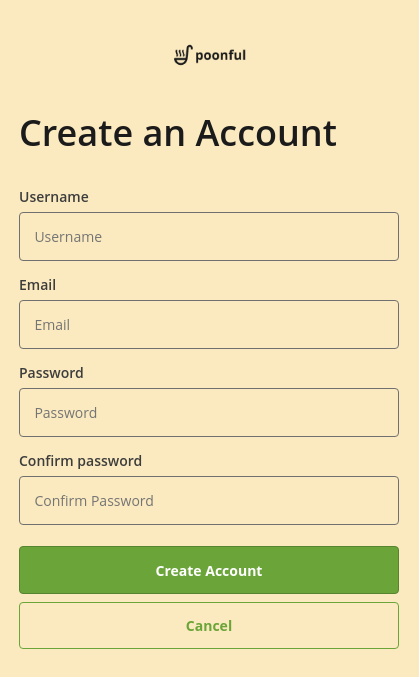
Scenario: Spoonful UI › shows a validation error when signup passwords do not match
In the field labelled "Username": (209, 237) x1=19 y1=212 x2=399 y2=261, type "cook"
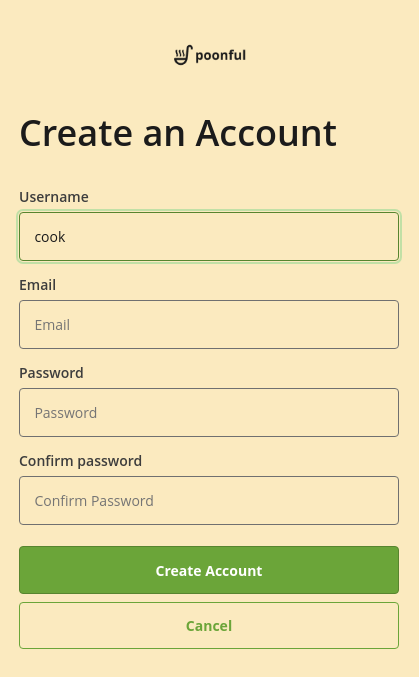
In the field labelled "Email": (209, 325) x1=19 y1=300 x2=399 y2=349, type "cook@example.com"
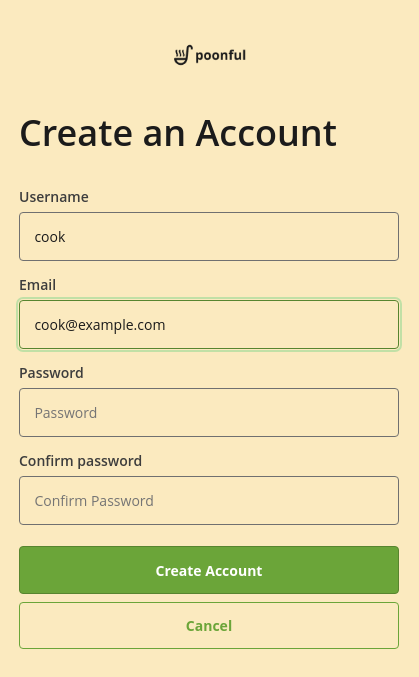
In the password field labelled "Password": (209, 413) x1=19 y1=388 x2=399 y2=437, type "one-password"
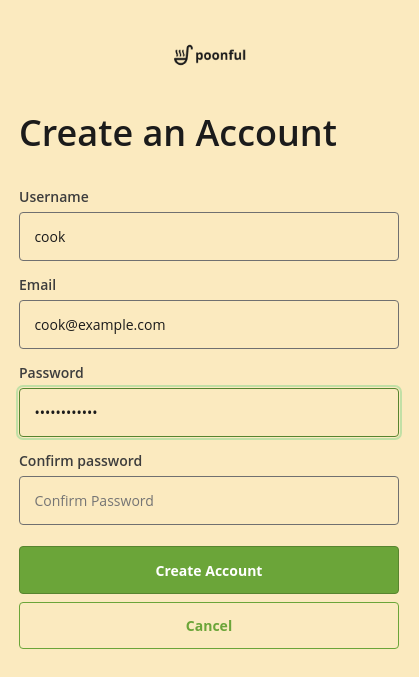
In the password field labelled "Confirm password": (209, 501) x1=19 y1=476 x2=399 y2=525, type "another-password"
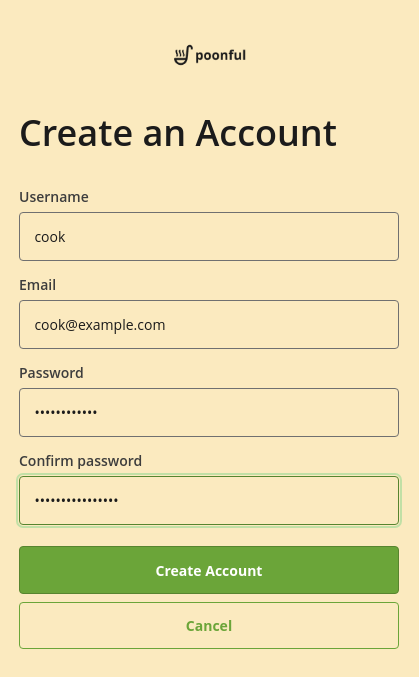
Click the button "Create Account": (209, 570) x1=19 y1=546 x2=399 y2=594
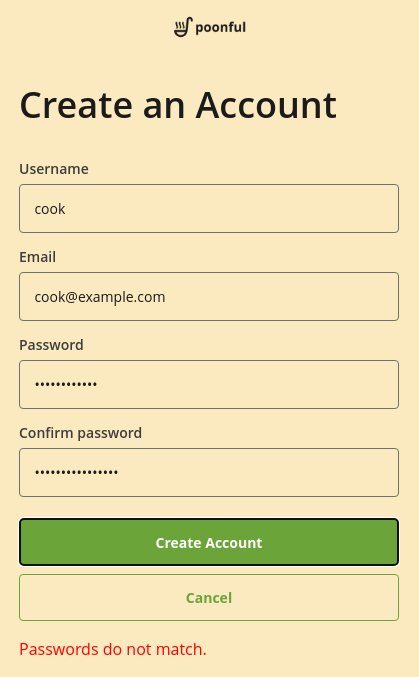
Check: the text "Passwords do not match." is shown, box x1=19 y1=638 x2=207 y2=660
